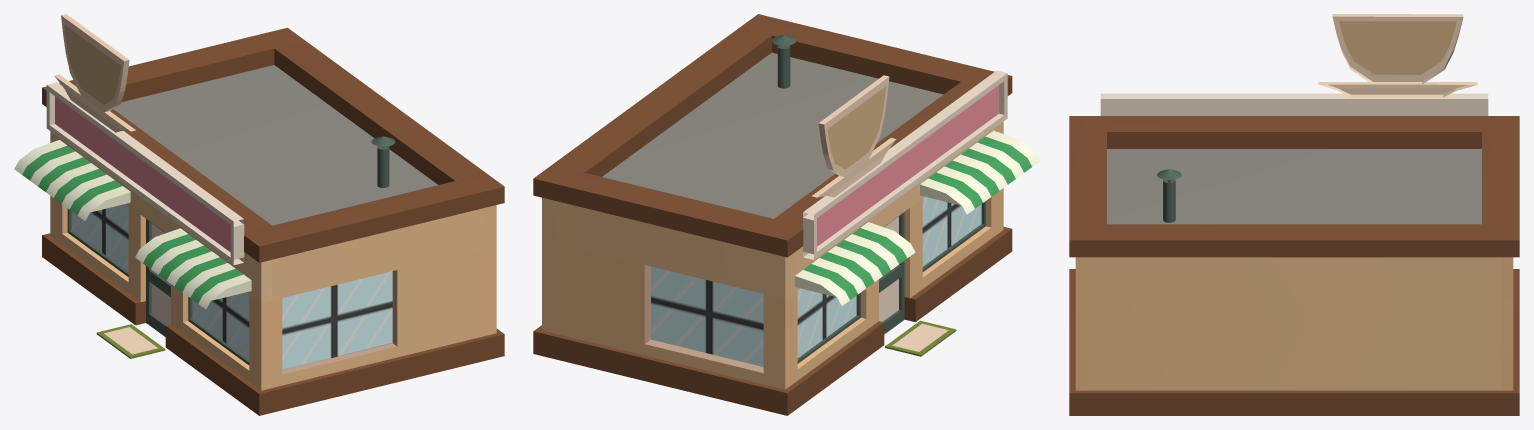
Rendered from house7.fbx.
3 views of the same model, side by side, from view 1: azimuth 30°, elevation 25°; view 2: azimuth 150°, elevation 25°; view 3: azimuth 270°, elevation 25° (orthographic). The views are drawn at different scales.
Parts seen in each view (by area): view 1: house7; view 2: house7; view 3: house7.
Boxes of the visible parts, box(x1,y1,x2,y2) form: house7: box(14, 14, 504, 415); house7: box(533, 14, 1040, 415); house7: box(1069, 14, 1519, 415).
Size of the model in its own units: 512 by 453 by 674.
